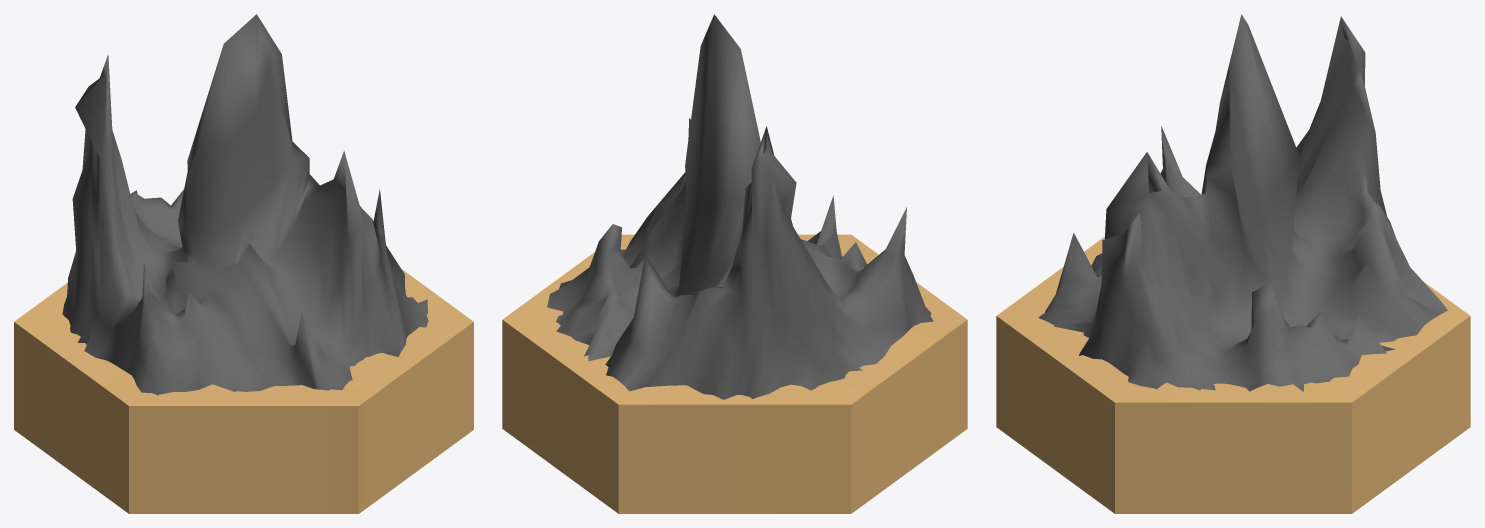
The model's file is Mountain_Hex.fbx.
The picture shows the model from 3 angles, left to right: view 1: azimuth 30°, elevation 25°; view 2: azimuth 150°, elevation 25°; view 3: azimuth 270°, elevation 25°; orthographic projection. The views are drawn at different scales.
Parts seen in each view (by area): view 1: Mountain, Mountain_Ground; view 2: Mountain, Mountain_Ground; view 3: Mountain, Mountain_Ground.
Boxes of the visible parts, x1,y1,x2,y2 form: Mountain: (62,14,428,395); Mountain_Ground: (14,269,473,513); Mountain: (547,14,933,399); Mountain_Ground: (502,234,967,513); Mountain: (1038,14,1447,391); Mountain_Ground: (996,236,1470,513).
Size of the model in its own units: 2005 by 2272 by 2315.
Materials: 2 (2 with a texture image).
